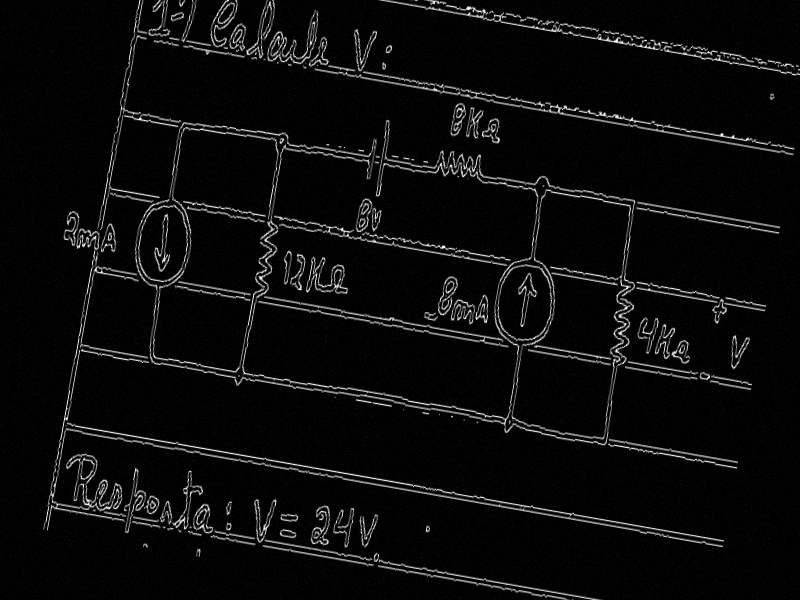-: (278, 508, 302, 525), (277, 525, 298, 544), (696, 368, 714, 386), (168, 8, 186, 25)
1: (146, 0, 179, 43), (278, 248, 295, 287)
2: (307, 500, 336, 550), (287, 249, 311, 294), (59, 207, 82, 248)
4: (631, 310, 661, 356), (330, 505, 358, 550)
8: (435, 269, 461, 318), (351, 194, 376, 240), (447, 98, 468, 140)
A: (99, 220, 121, 258), (472, 291, 493, 328)
V: (247, 491, 280, 547), (347, 24, 379, 75), (725, 326, 752, 374), (354, 510, 380, 553), (367, 204, 384, 237)
k: (303, 251, 329, 296), (652, 319, 678, 361), (463, 105, 486, 140)
m: (448, 296, 479, 326), (72, 225, 102, 254)
